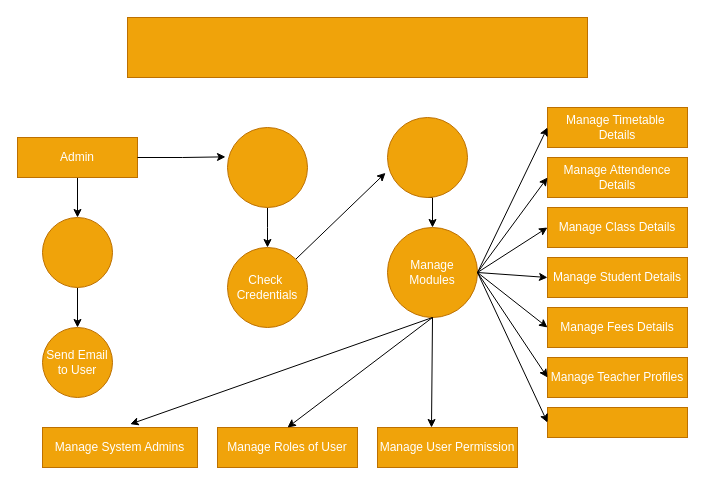
The diagram is 705 pixels wide and 485 high, and some of its shapes have lost their labels. The shapes that lost their labels are listed below. From the top down, each one's centre as x and y in pixels, then its label:
At pixel 357 47: "Student Information System".
At pixel 267 167: "L ogin to System".
At pixel 427 157: "Check Roles of Access".
At pixel 77 252: "Forgot Password".
At pixel 617 422: "Manage Report".
